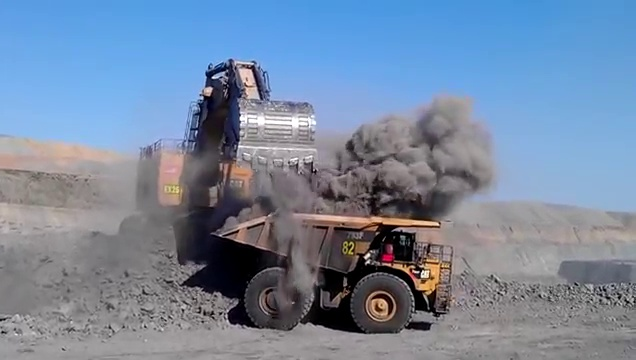dumper: (213, 210, 454, 332)
excavator: (139, 56, 321, 241)
